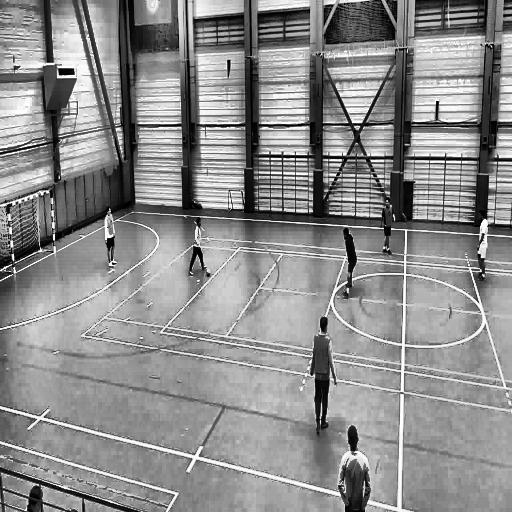ball: (205, 267, 212, 279)
player: (309, 318, 339, 437), (341, 224, 358, 302), (188, 215, 208, 278), (474, 208, 490, 284), (102, 204, 120, 269), (380, 197, 397, 257)
